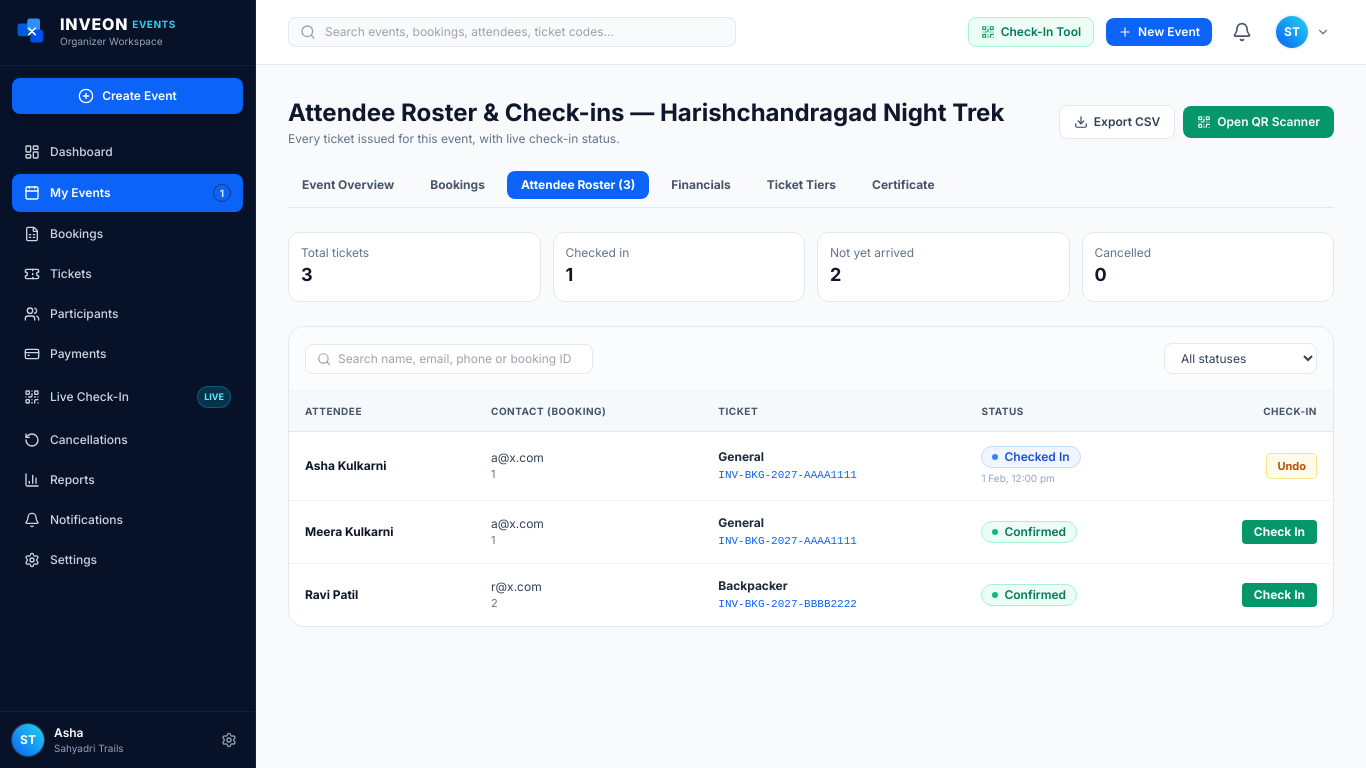
it: organizer dashboards and tables show real data only › event roster: real attendees, real manual check-in, filters
The width and height of the screenshot is (1366, 768).
Click the button "Check In" in the row of "Meera Kulkarni".
click(1279, 532)  # box [1242,520,1317,544]
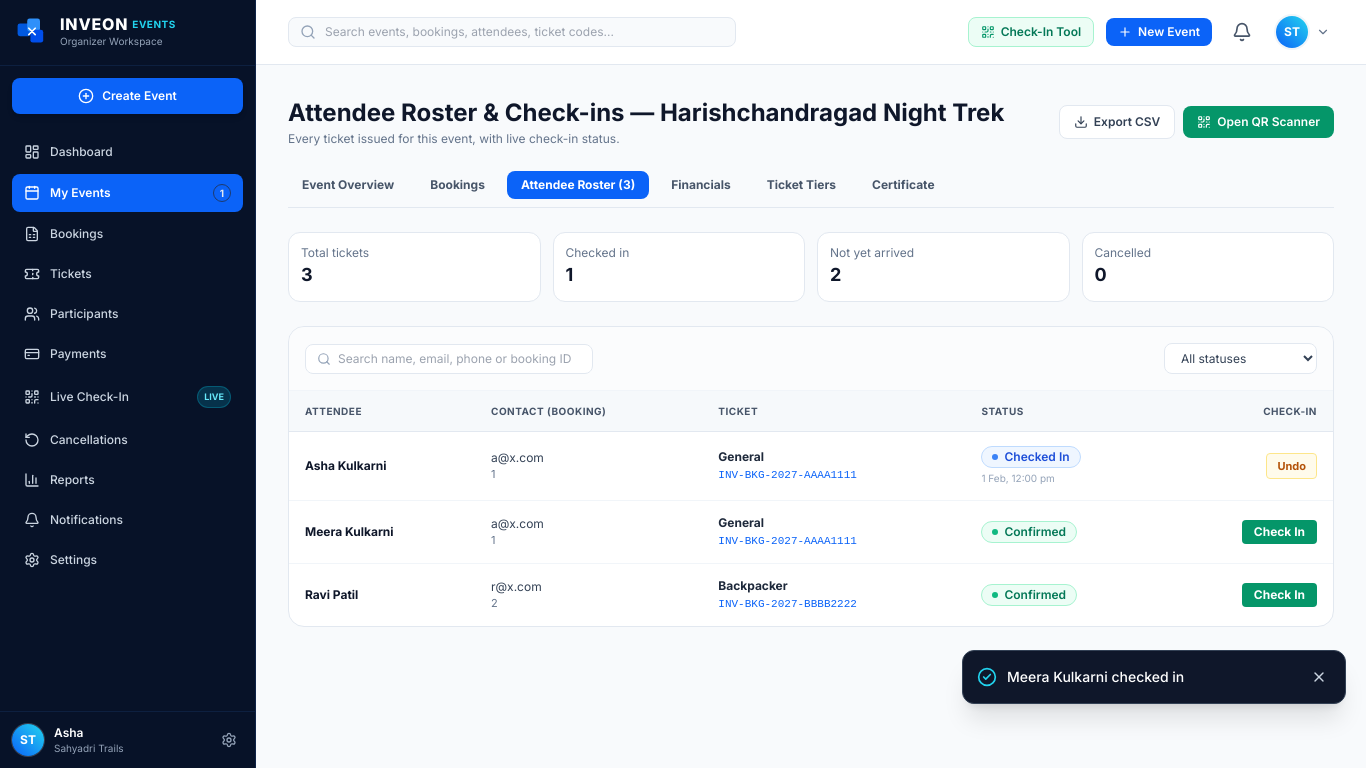
Select "Checked in" in the dropdown named "Filter by check-in status" at (1240, 358), box [1164,343,1317,374]
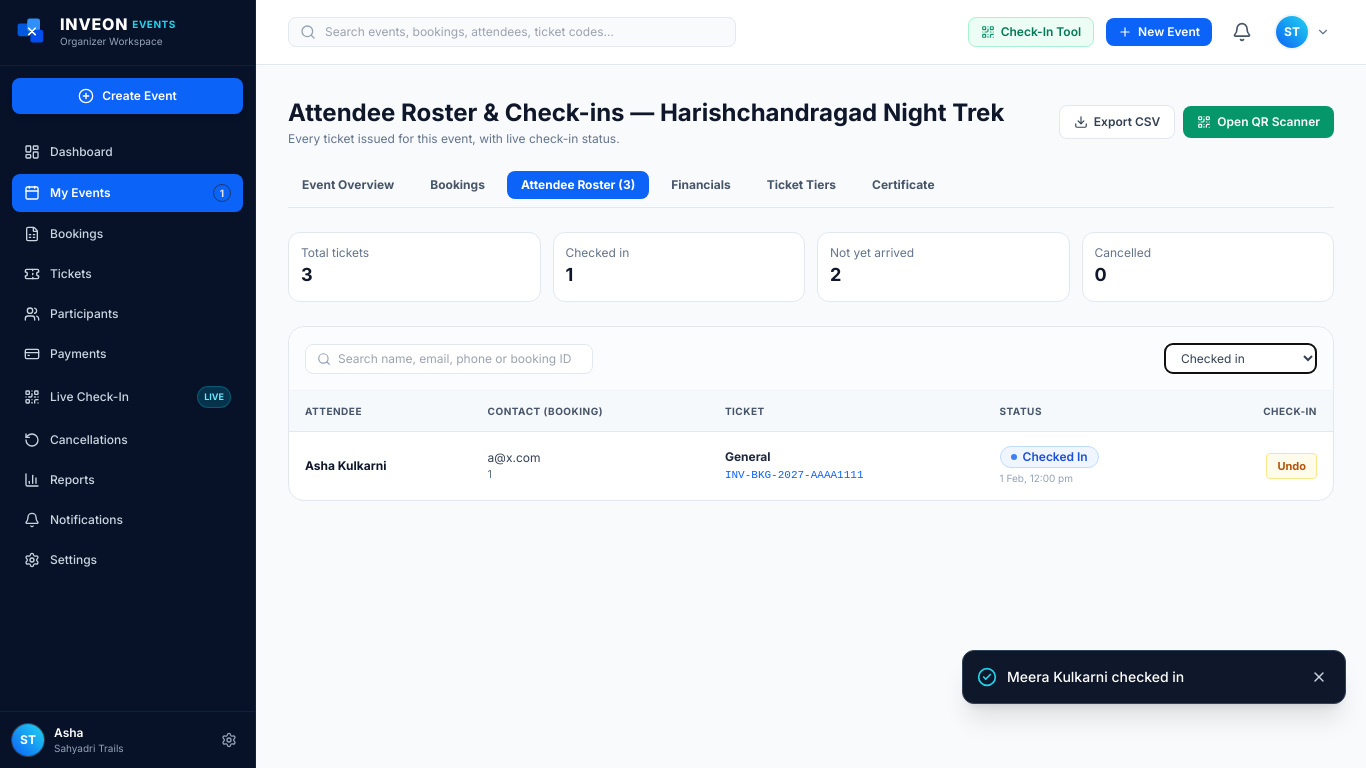
Expected: the text "Asha Kulkarni" is shown, [289,432,472,500]
Expected: the text "Ravi Patil" is gone
